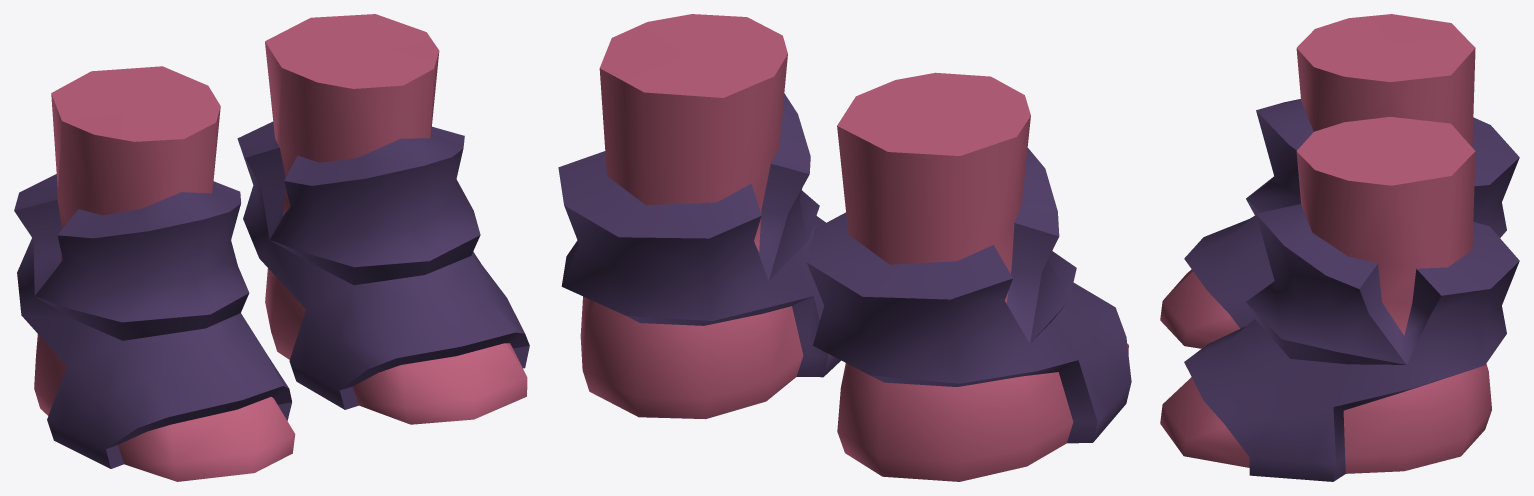
Rendered from Feet_42.fbx.
3 renders of one model, left to right at view 1: azimuth 30°, elevation 25°; view 2: azimuth 150°, elevation 25°; view 3: azimuth 270°, elevation 25°, orthographic. The views are drawn at different scales.
Visible parts, largest first — view 1: Feet_42; view 2: Feet_42; view 3: Feet_42.
Boxes of the visible parts, x1=… form: Feet_42: x1=14, y1=14, x2=529, y2=481; Feet_42: x1=558, y1=14, x2=1131, y2=481; Feet_42: x1=1160, y1=14, x2=1519, y2=481.
Bounding box in the file's own units: 41.32 × 25.19 × 29.47.
